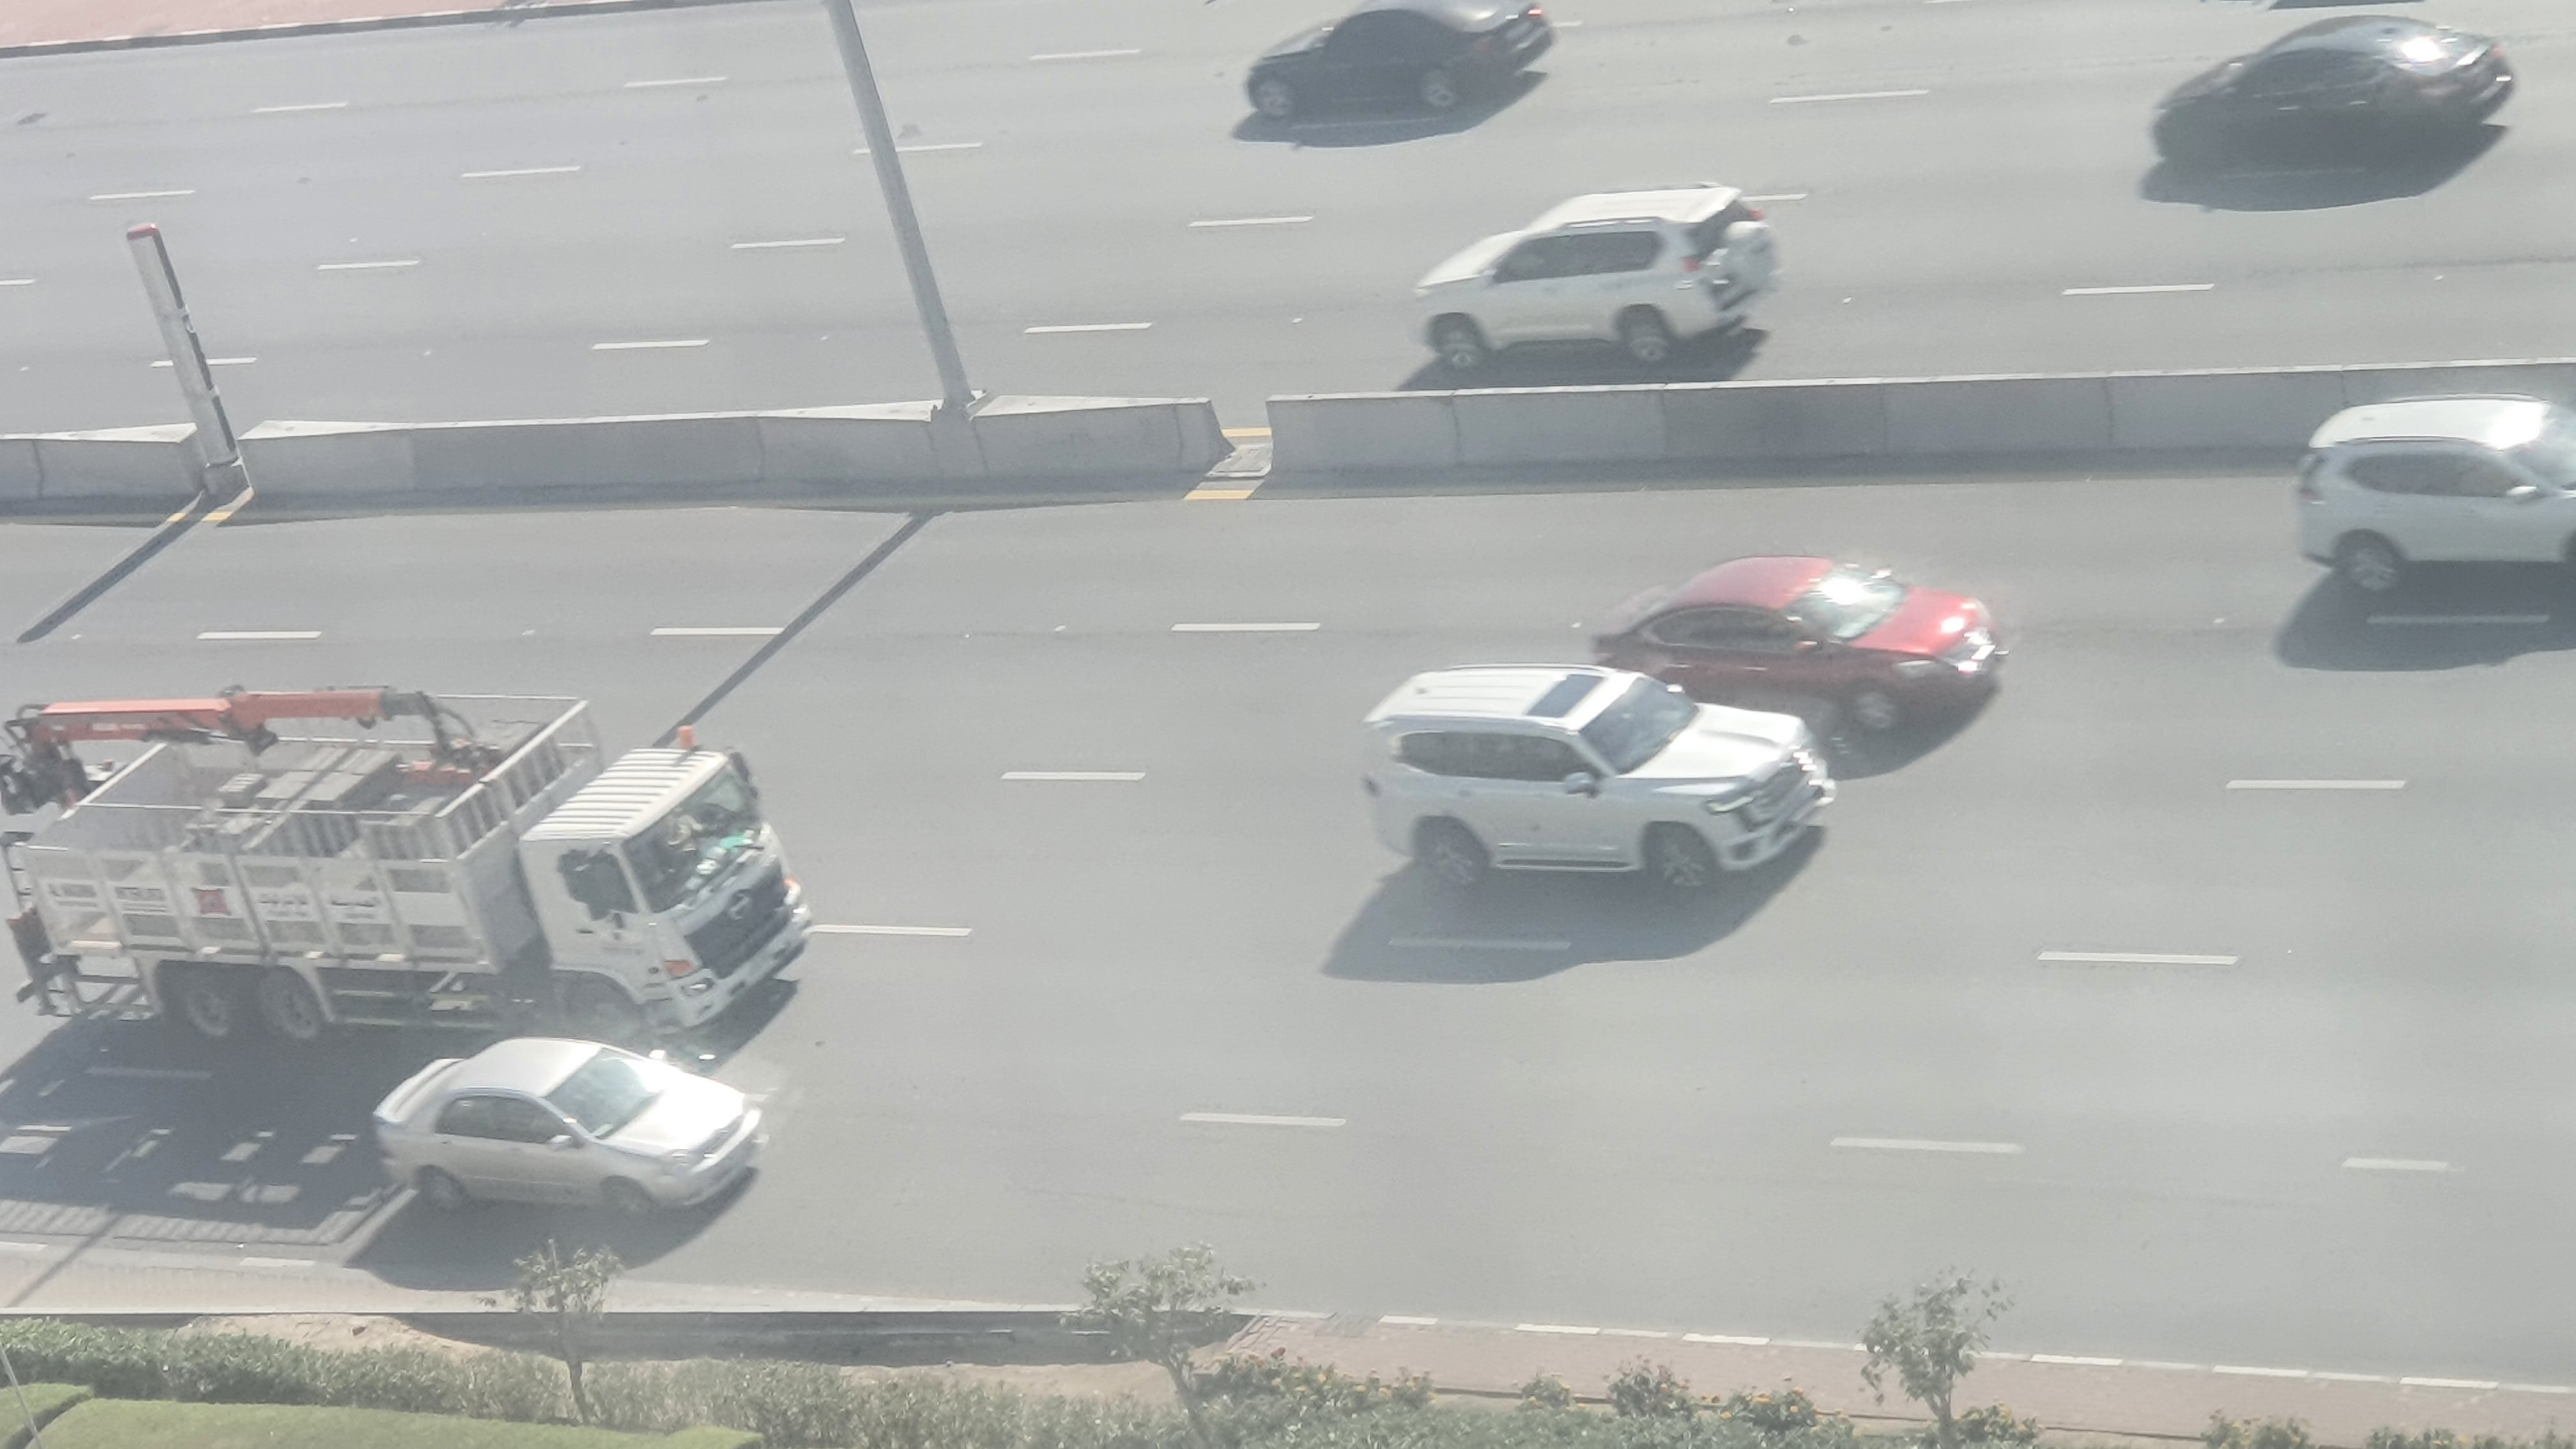NotSunroof: (350, 1033, 777, 1230), (1638, 547, 2008, 734), (2288, 395, 2576, 605)
Sunroof: (1350, 672, 1844, 897)
